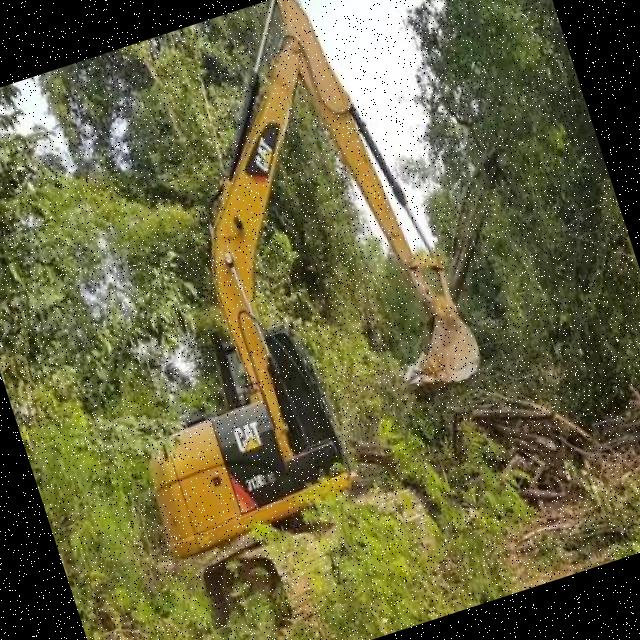Excavator: (16, 0, 545, 640)
